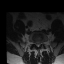CCS_stenosis: (37, 41, 39, 48)
LFS_stenosis: (41, 40, 43, 46)
LLS_normal: (39, 41, 41, 47)
RFS_stenosis: (33, 40, 35, 45)
RLS_normal: (35, 40, 37, 47)
